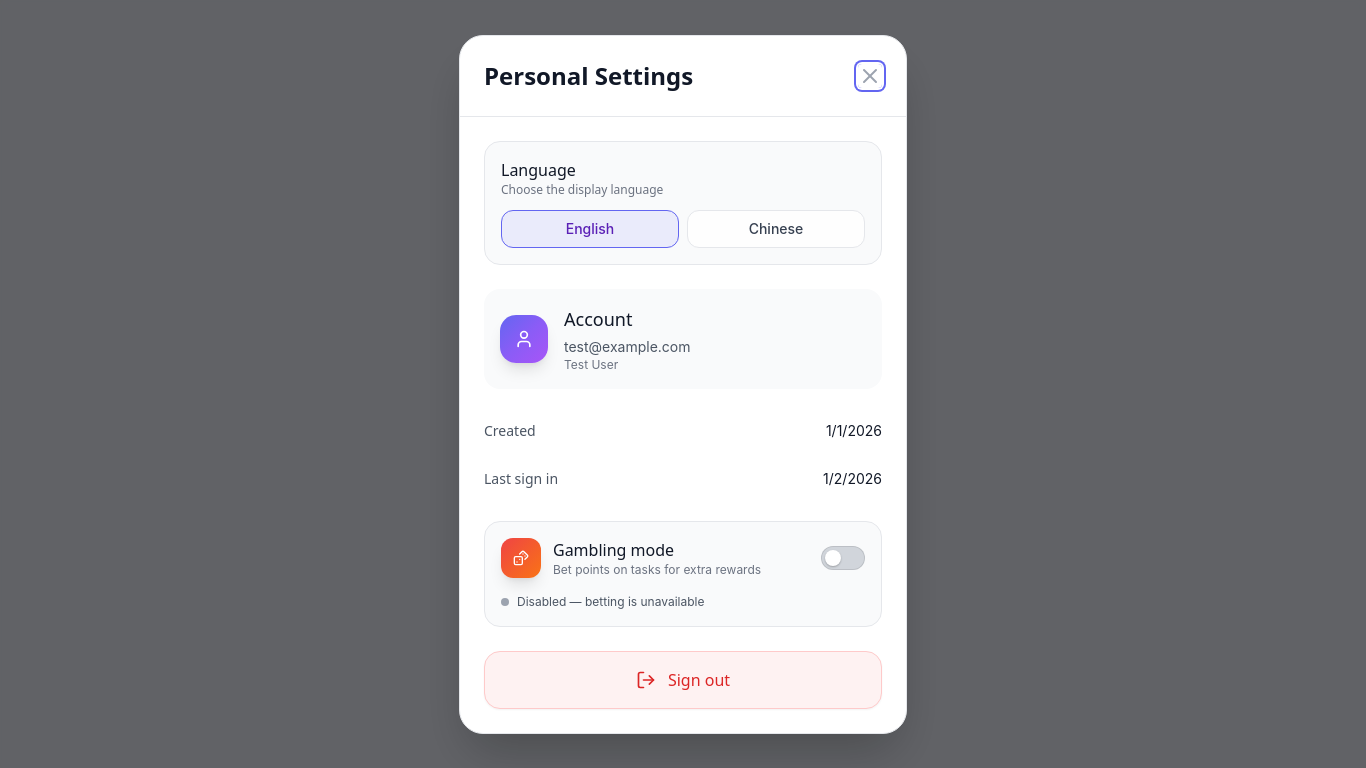
AccountModal behavior › shows and dismisses gambling toggle errors for unsuccessful updates
The image size is (1366, 768).
Step 1. Click the switch named "Toggle gambling mode" → click(843, 558), box left=821, top=546, right=865, bottom=570
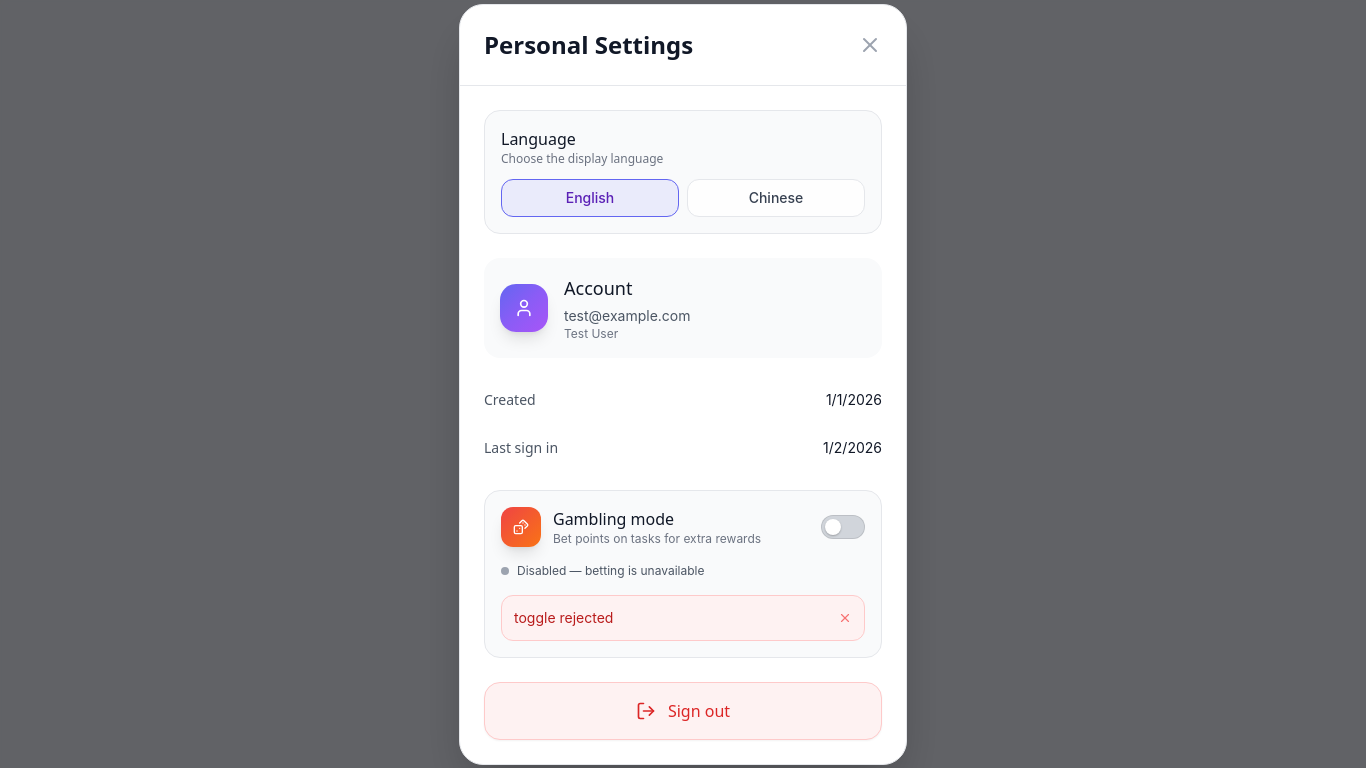
Now the text "toggle rejected" is shown, box left=514, top=608, right=613, bottom=628
Step 2. Click the button named "Dismiss error" → click(845, 618), box left=838, top=610, right=852, bottom=624
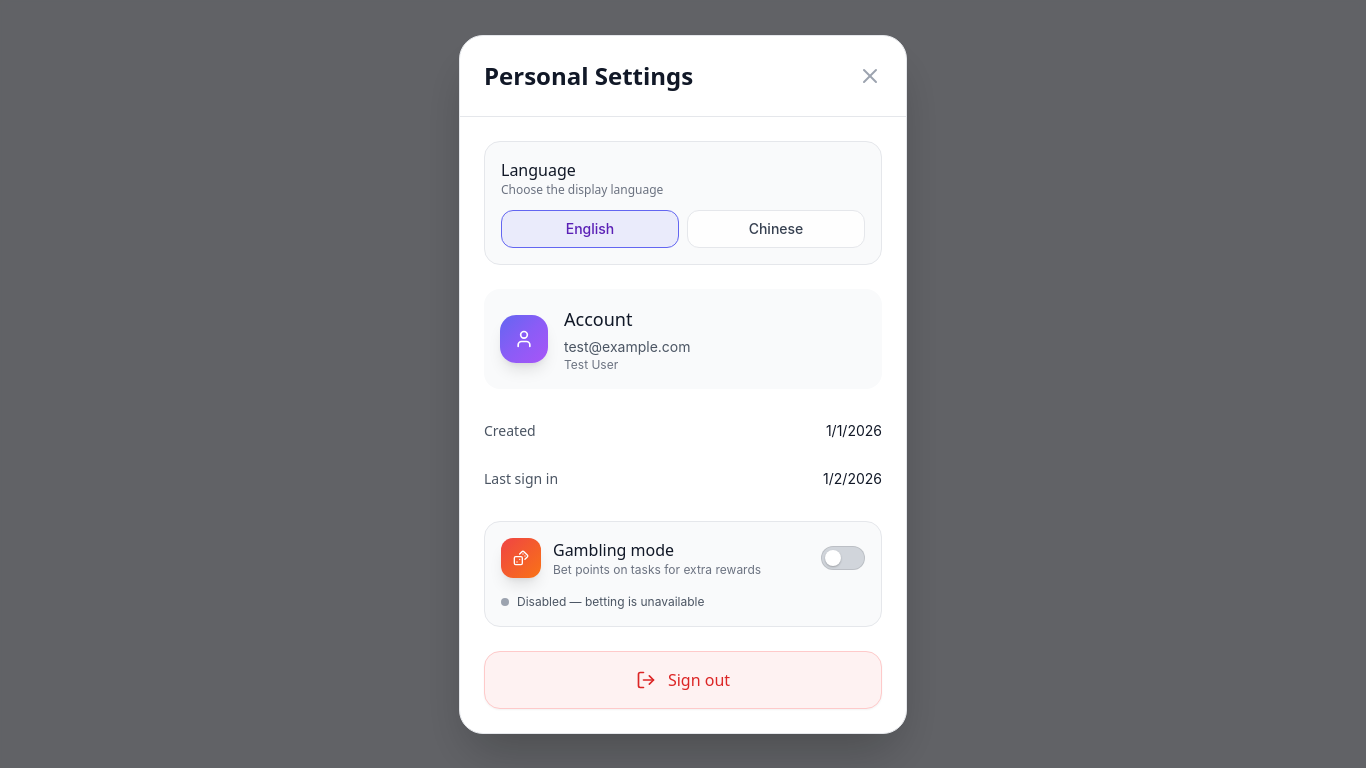
Now the text "toggle rejected" is gone
